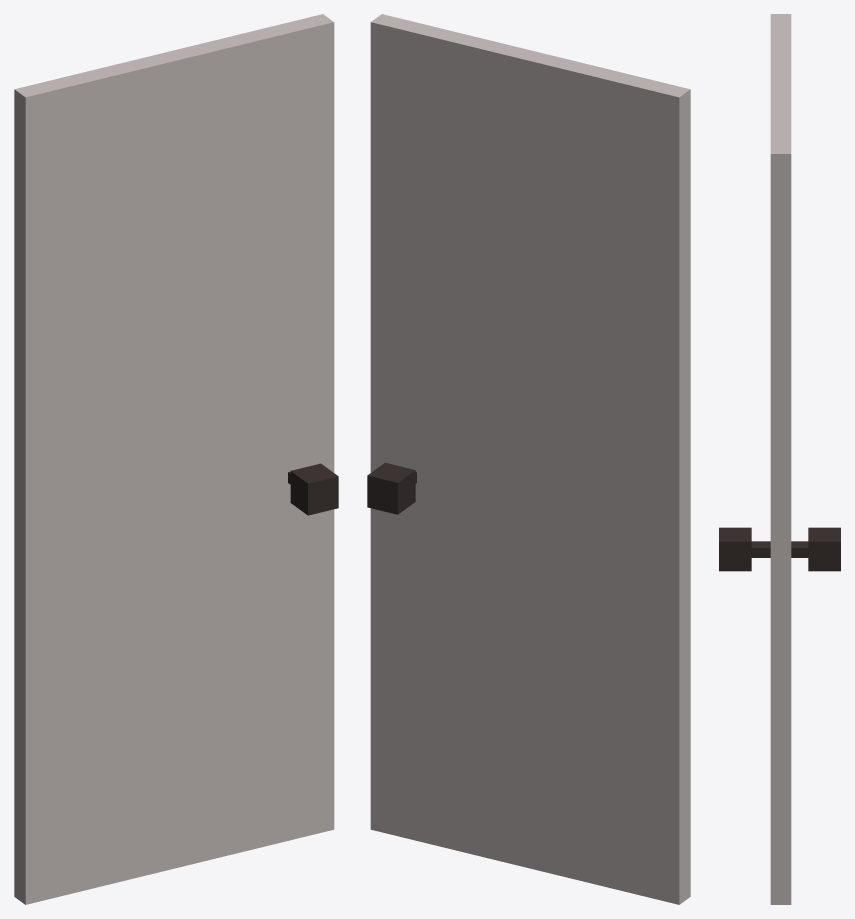
File: porta.glb
The picture shows the model from 3 angles, left to right: view 1: azimuth 30°, elevation 25°; view 2: azimuth 150°, elevation 25°; view 3: azimuth 270°, elevation 25°; orthographic projection. The views are drawn at different scales.
Size of the model in its own units: 1 by 2.5 by 0.3675.
1 material, 1 textured.
